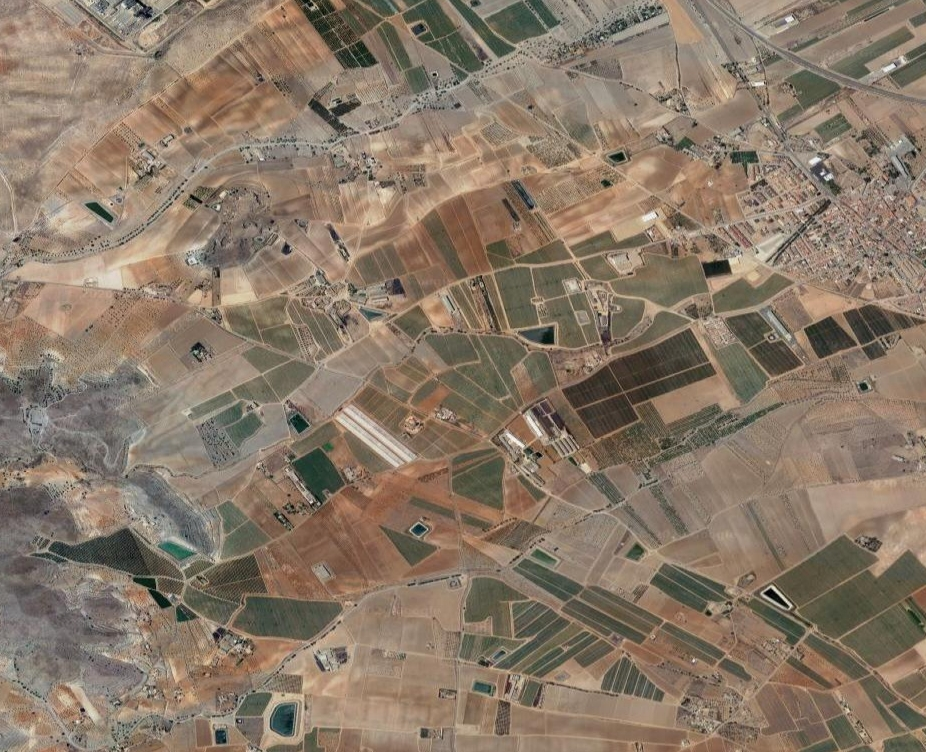motorway: (701, 3, 925, 113)
